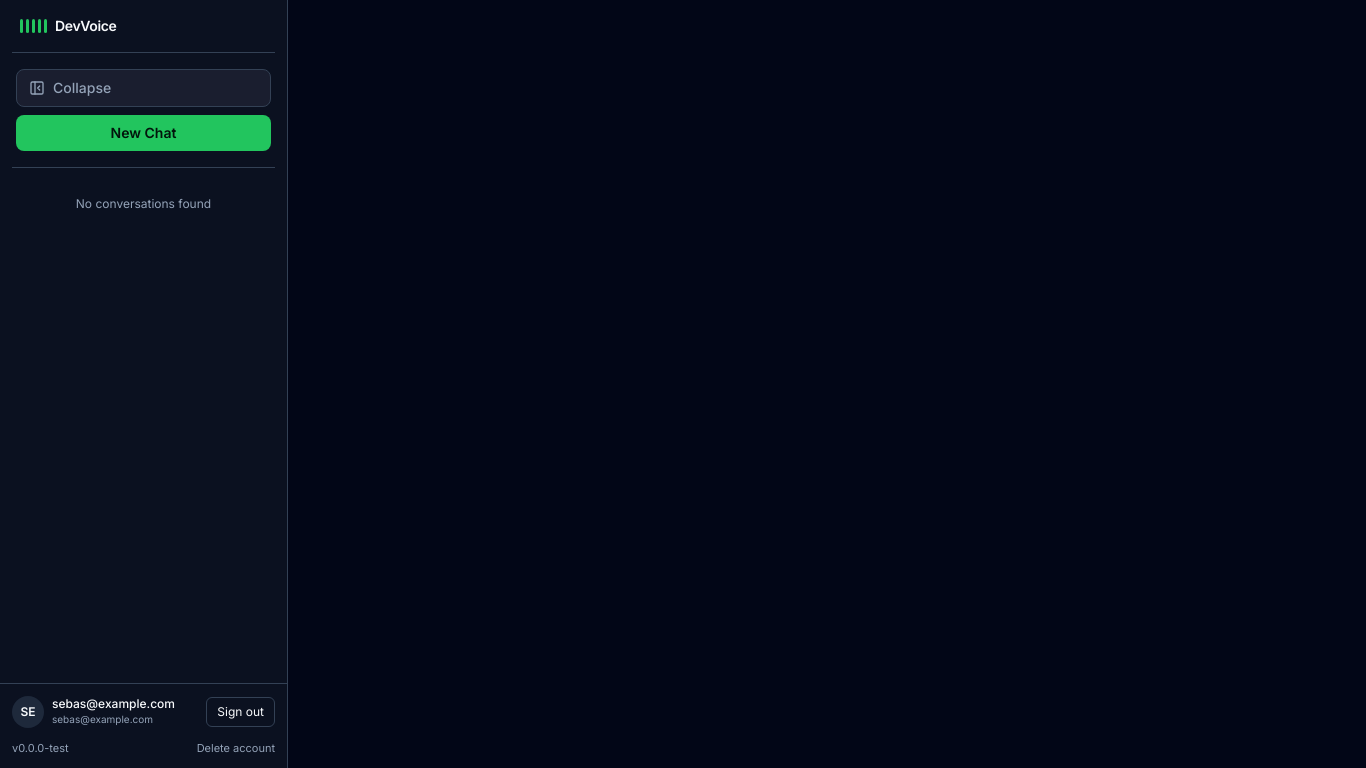
Scenario: ConversationSidebar delete account › surfaces an error when deletion fails
Step 1. Click the button with test id "delete-account" → (236, 748), box [197,740,275,756]
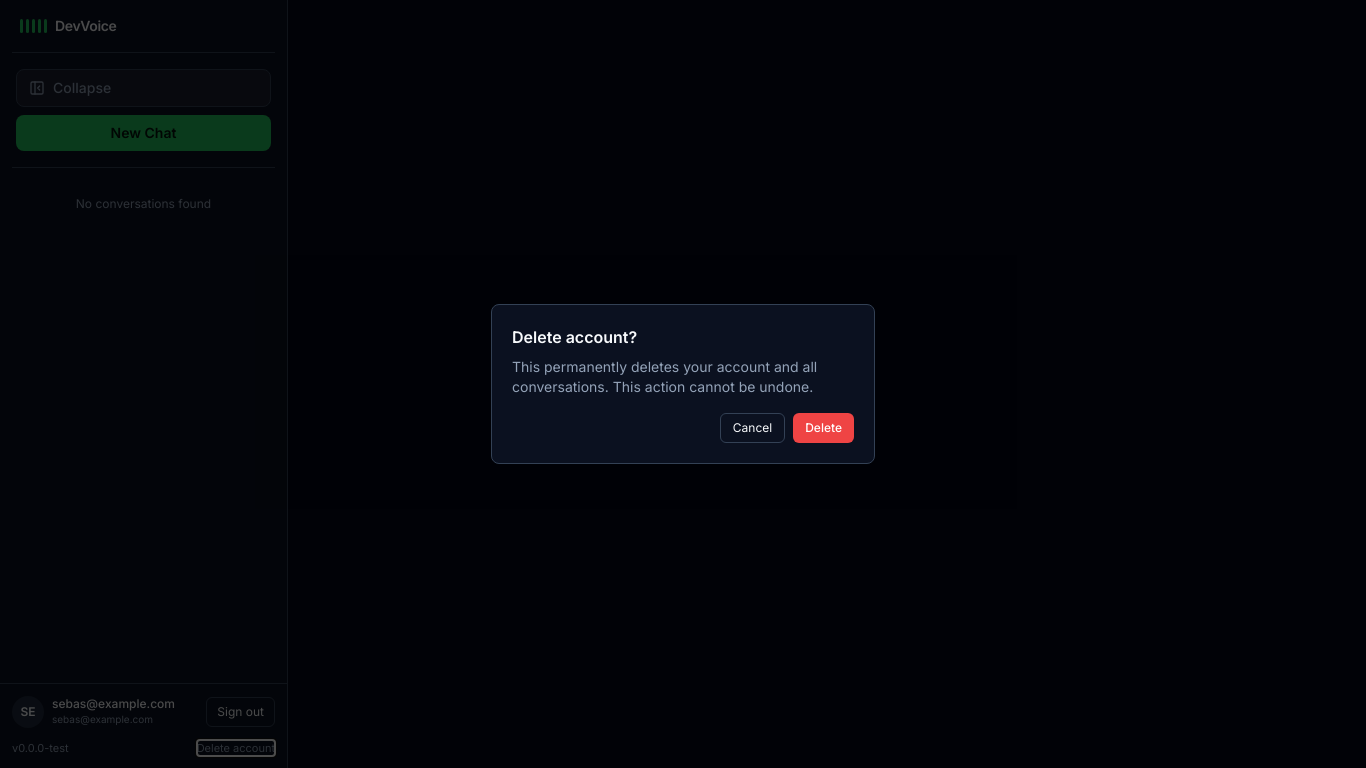
Step 2. Click the button with test id "confirm-delete-account" → (824, 428), box [793,413,854,443]
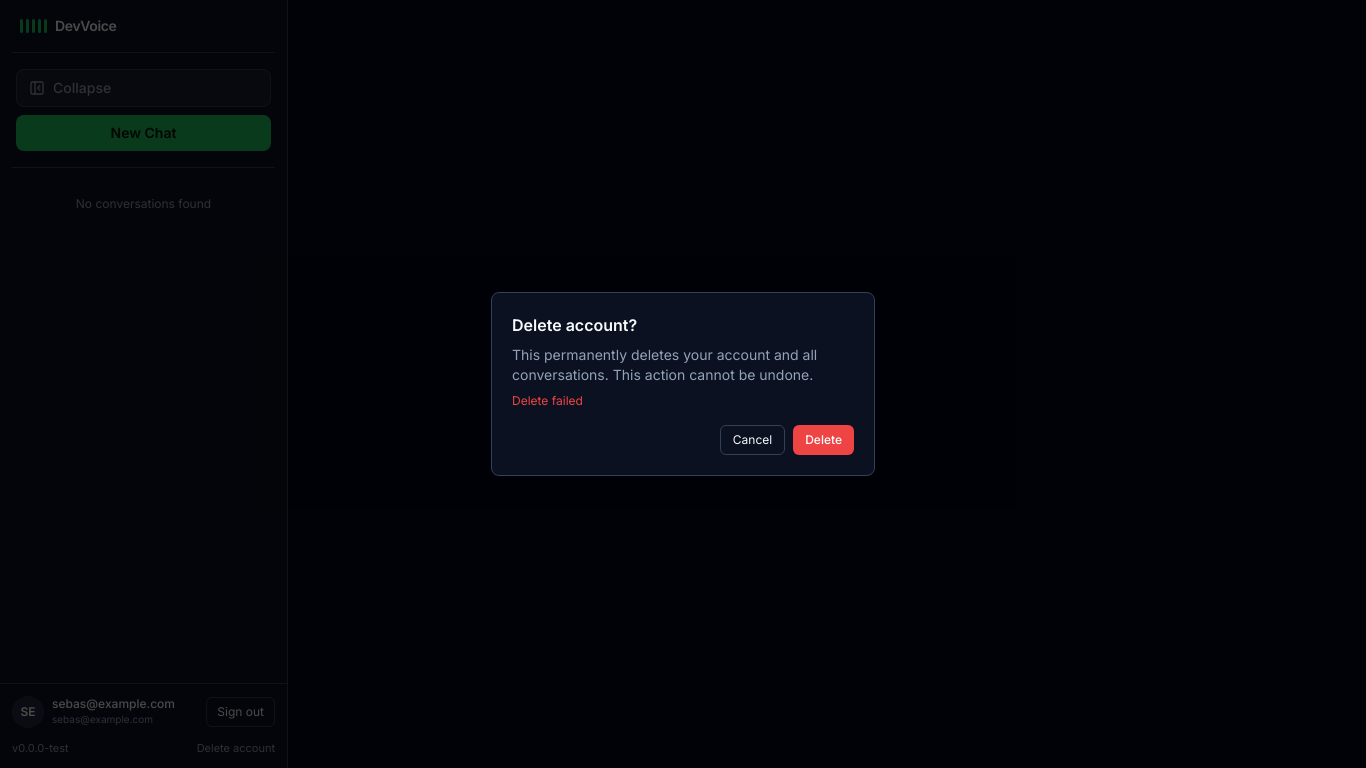
Now the text "Delete failed" is shown, box [512,393,583,408]
